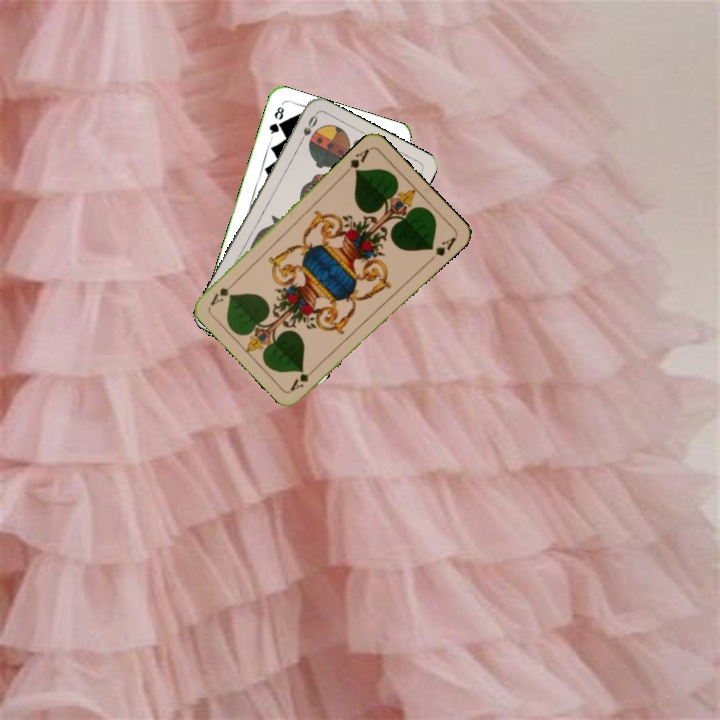G8: (265, 102, 287, 140)
GA: (286, 362, 320, 394), (341, 144, 372, 177)
SO: (295, 110, 320, 148)
